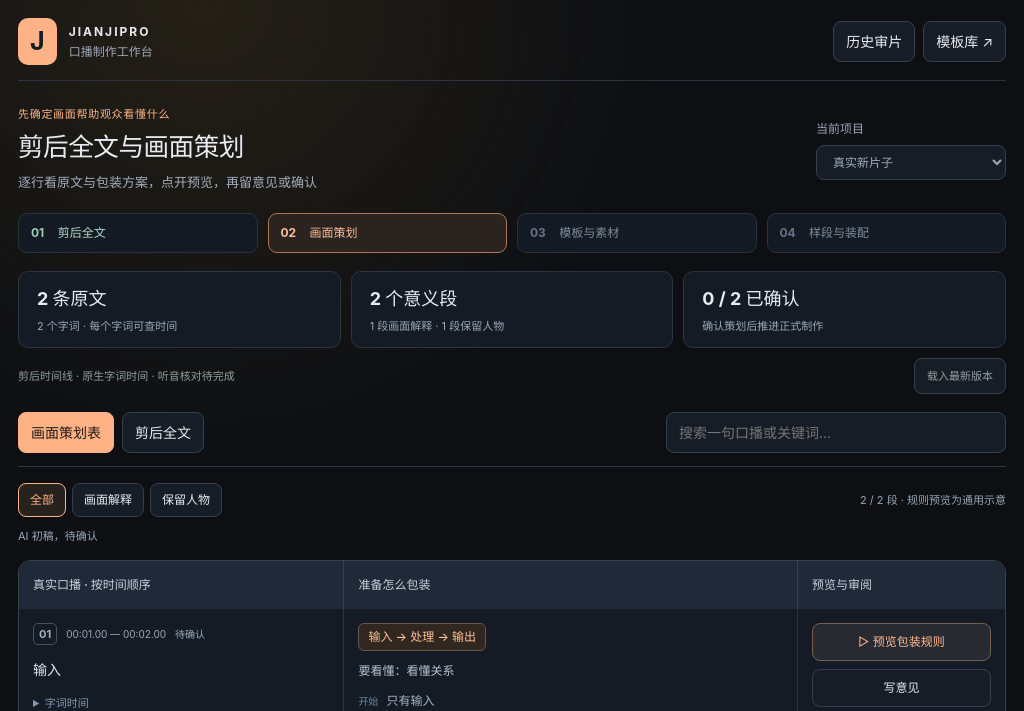
Test: 保存提交正确行和本轮版本，成功清空草稿，待处理意见阻断确认
Click the button "写意见" at x=901, y=688, box x1=812 y1=669 x2=991 y2=707
(page scrolled)
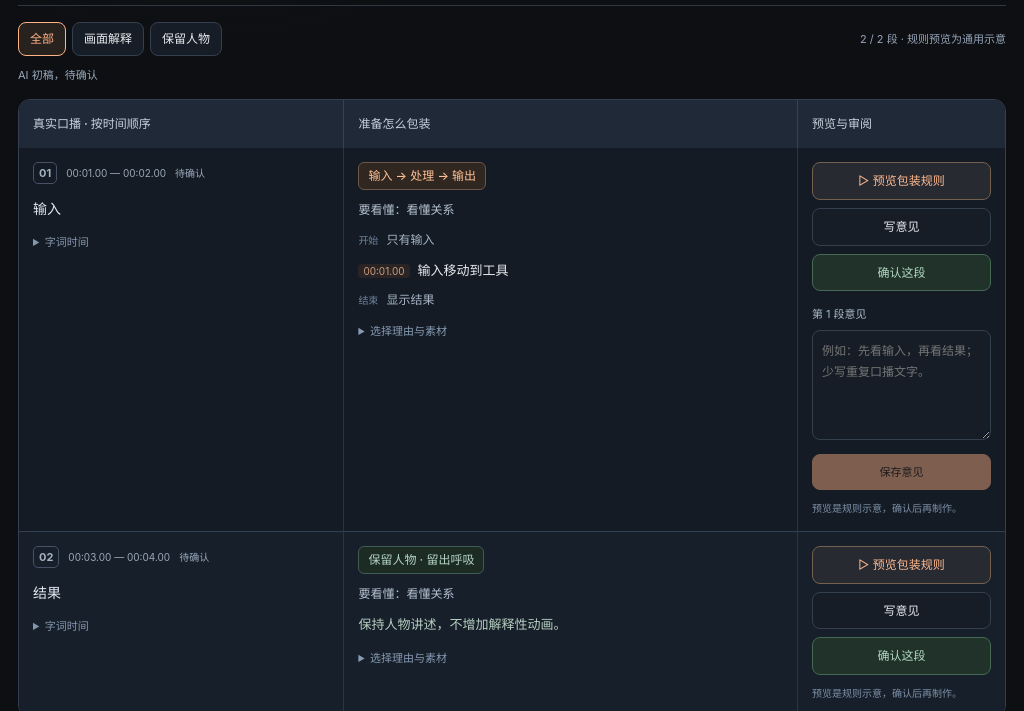
Type "先看输入" into the text box labelled "第 1 段意见" at x=901, y=384, box x1=812 y1=330 x2=991 y2=440
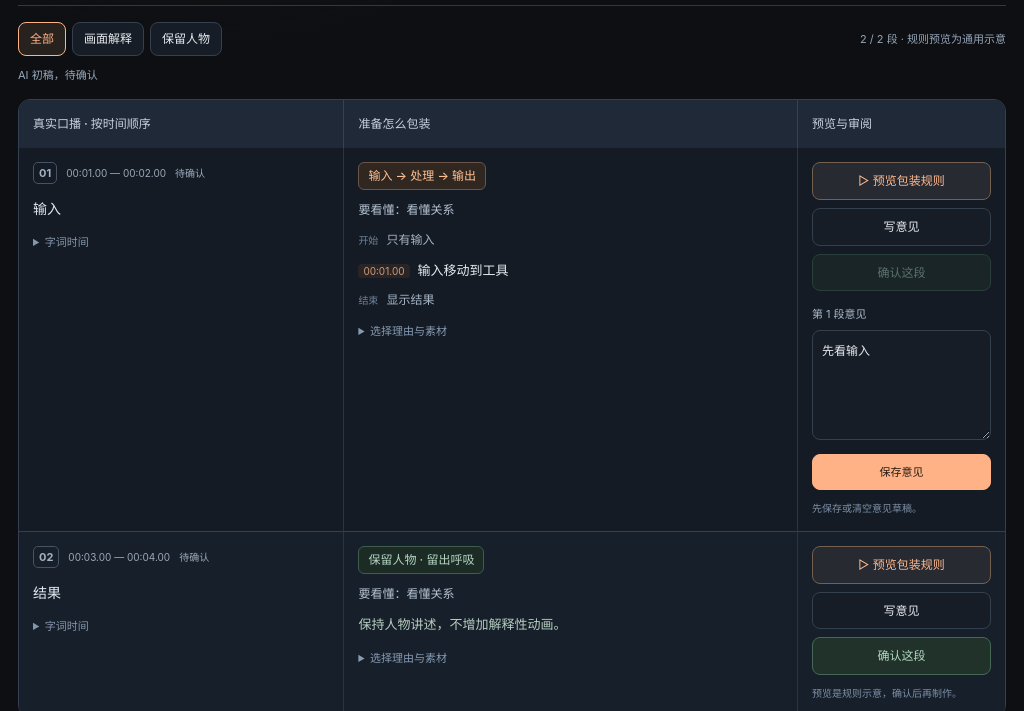
Click the button with aria-label "保存第 1 段意见" at x=901, y=472, box x1=812 y1=454 x2=991 y2=490
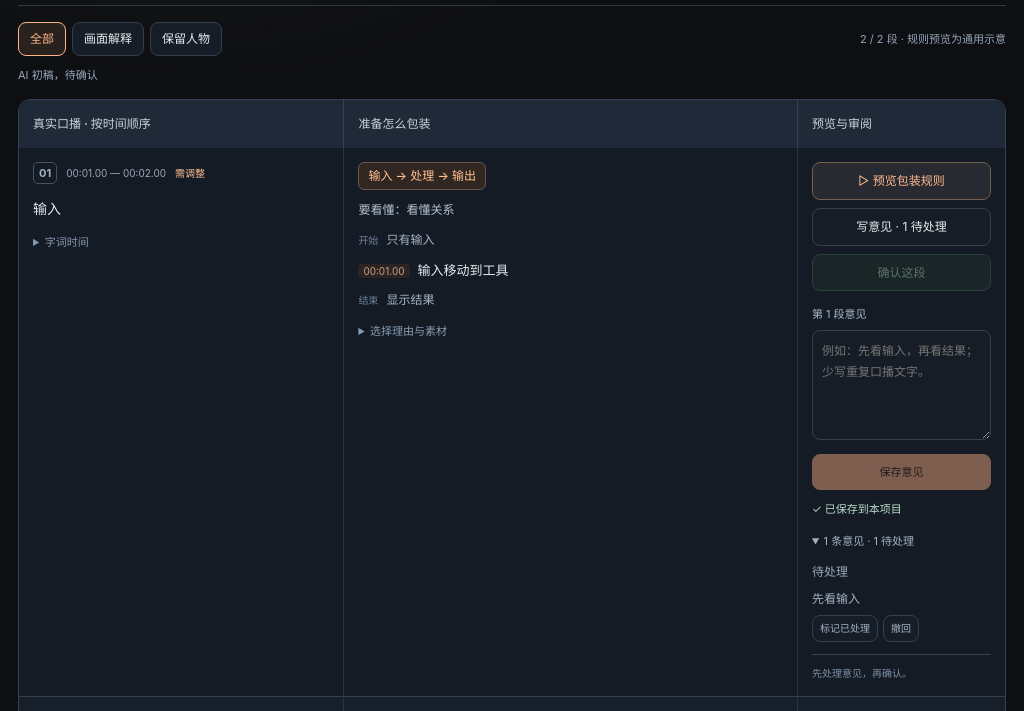
expect the button with aria-label "确认第 1 段策划" is disabled: met, box x1=812 y1=254 x2=991 y2=291
expect the text "✓ 已保存到本项目" is shown: met, box x1=812 y1=502 x2=902 y2=516
expect the text box labelled "第 1 段意见" is empty: met, box x1=812 y1=330 x2=991 y2=440
